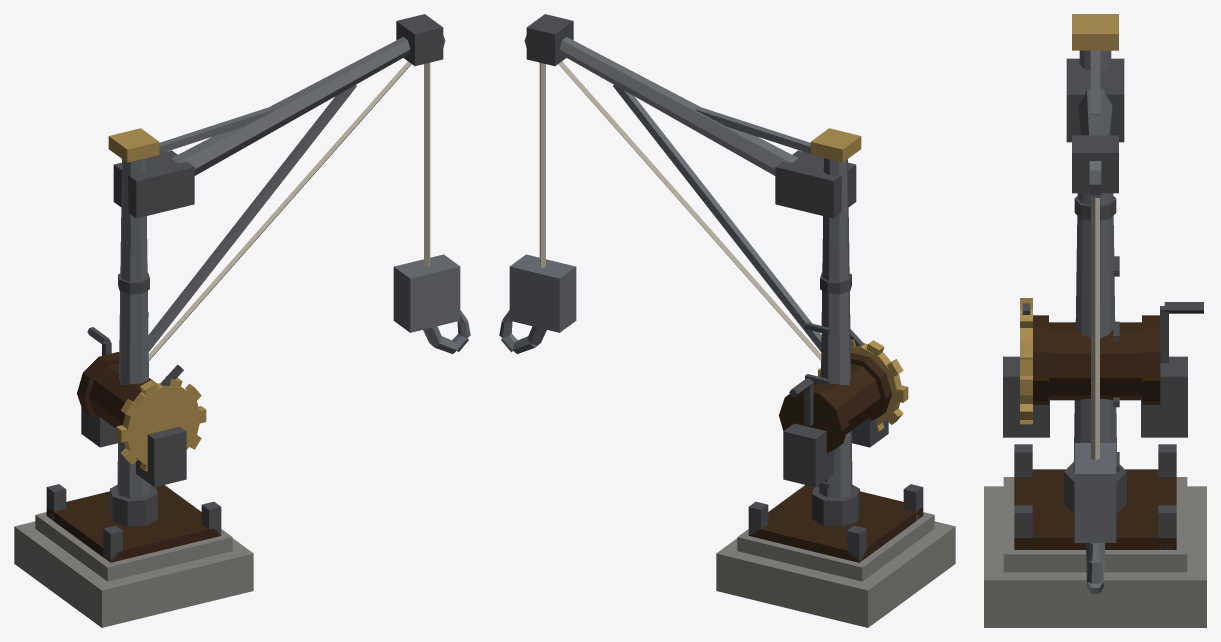
Rendered from SN_Hand_Jib_Crane.glb.
The picture shows the model from 3 angles, left to right: view 1: azimuth 30°, elevation 25°; view 2: azimuth 150°, elevation 25°; view 3: azimuth 270°, elevation 25°; orthographic projection. The views are drawn at different scales.
Visible parts, largest first — view 1: SN_HJ_Base, SN_HJ_Jib, SN_HJ_Winch, SN_HJ_Post, SN_HJ_Rope_Hook; view 2: SN_HJ_Base, SN_HJ_Jib, SN_HJ_Winch, SN_HJ_Post, SN_HJ_Rope_Hook; view 3: SN_HJ_Base, SN_HJ_Winch, SN_HJ_Post, SN_HJ_Jib, SN_HJ_Rope_Hook, SN_HJ_Details.
Boxes of the visible parts, <box> form: SN_HJ_Base: <box>14,484,253,627</box>; SN_HJ_Jib: <box>113,14,445,351</box>; SN_HJ_Winch: <box>77,327,206,487</box>; SN_HJ_Post: <box>108,128,159,526</box>; SN_HJ_Rope_Hook: <box>148,61,470,360</box>; SN_HJ_Base: <box>716,484,955,627</box>; SN_HJ_Jib: <box>524,14,856,351</box>; SN_HJ_Winch: <box>779,329,908,487</box>; SN_HJ_Post: <box>810,128,861,526</box>; SN_HJ_Rope_Hook: <box>499,61,821,360</box>; SN_HJ_Base: <box>984,444,1206,627</box>; SN_HJ_Winch: <box>1003,298,1203,437</box>; SN_HJ_Post: <box>1064,14,1126,513</box>; SN_HJ_Jib: <box>1066,50,1124,305</box>; SN_HJ_Rope_Hook: <box>1074,198,1116,593</box>; SN_HJ_Details: <box>1113,256,1119,472</box>.
Bounding box in the file's own units: 4.6 × 5.17 × 1.7.
